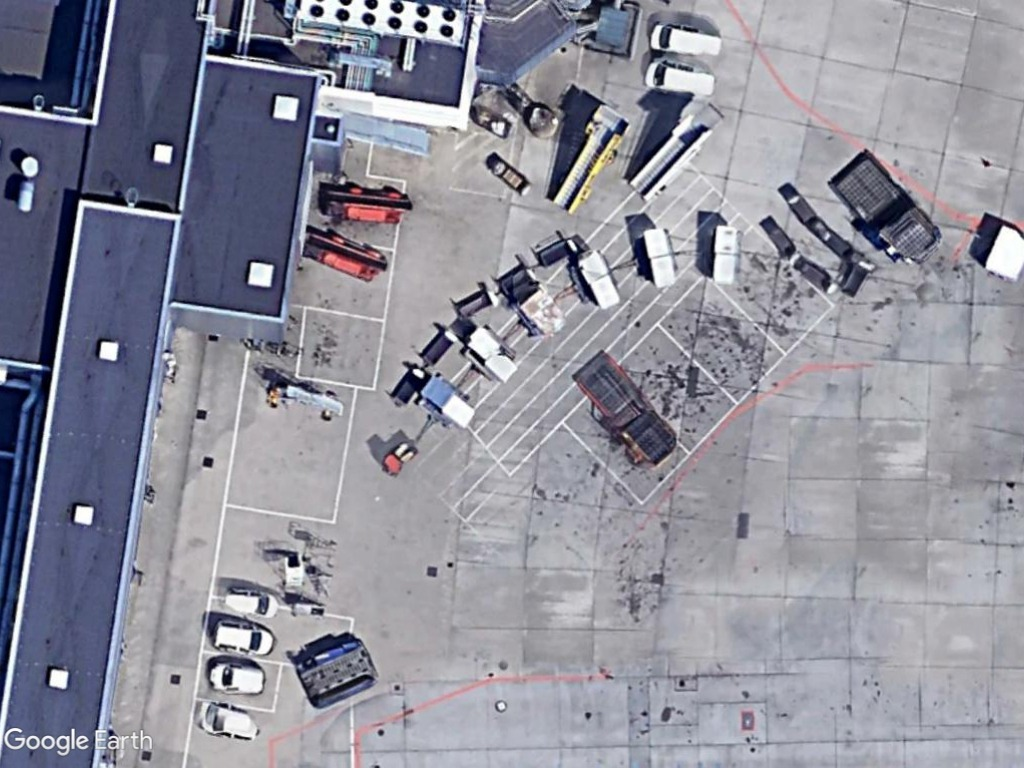car: (206, 616, 283, 663), (199, 656, 272, 702)
stairtruck: (546, 97, 625, 216), (626, 106, 709, 204)
van: (643, 18, 728, 65), (641, 55, 724, 101)
